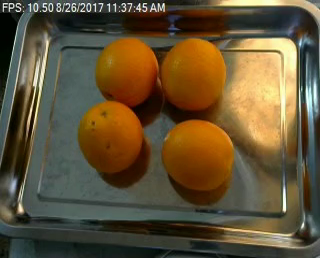Orange: (162, 117, 234, 190), (161, 38, 227, 111), (80, 102, 143, 174), (95, 38, 158, 107)
